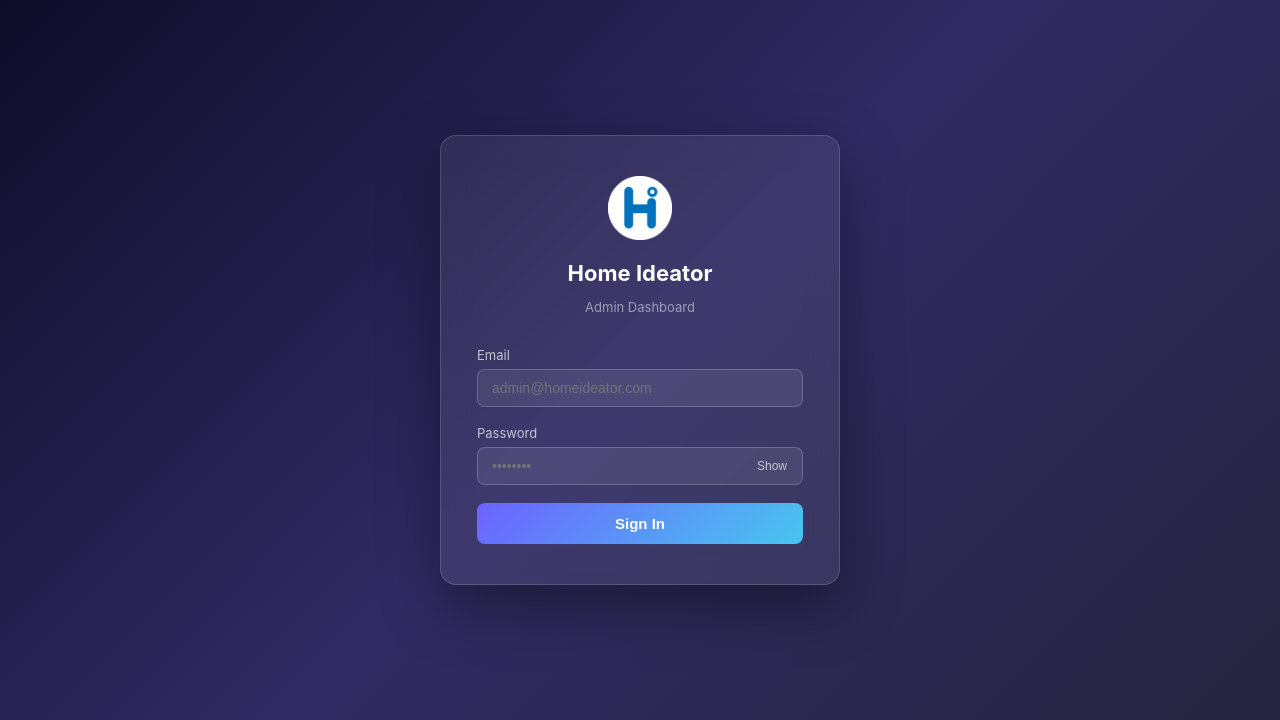
Login Flow › shows error toast on wrong credentials
Type "wrong@test.com" into the field with id "email" at x=640, y=388, box x1=477 y1=369 x2=803 y2=407
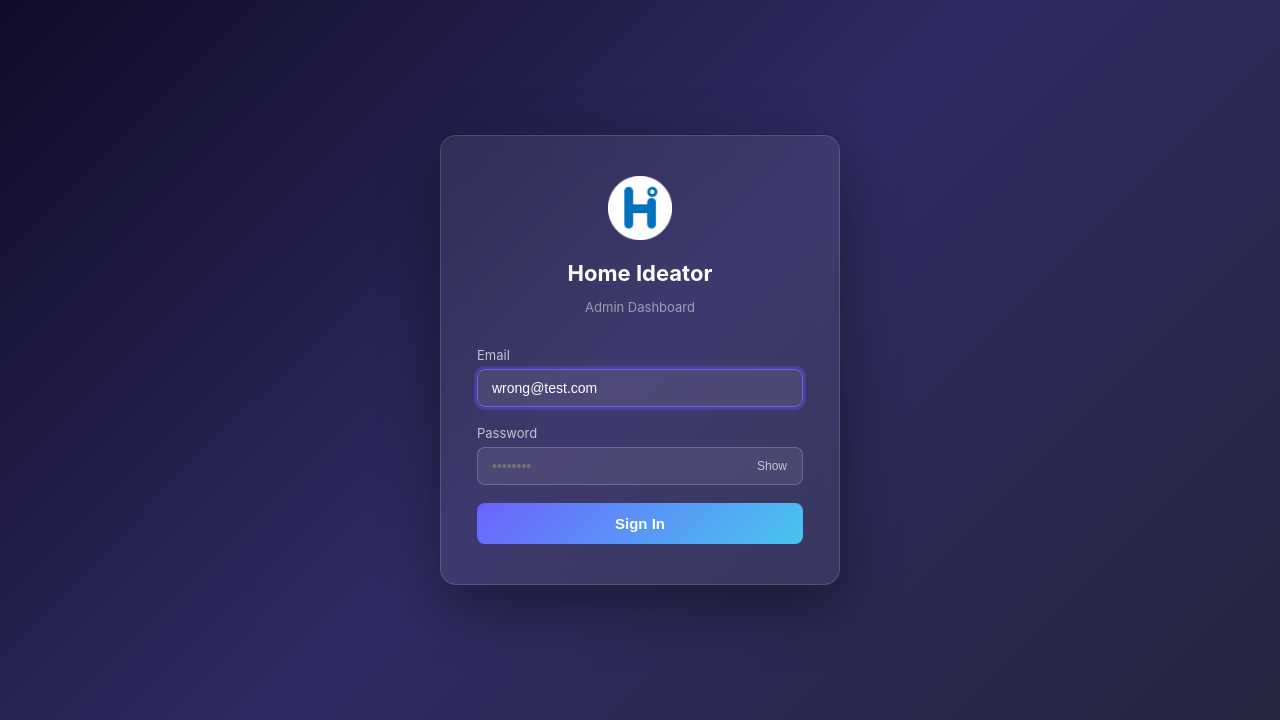
Type "wrongpass" into the password field labelled "Password" at x=640, y=466, box x1=477 y1=447 x2=803 y2=485
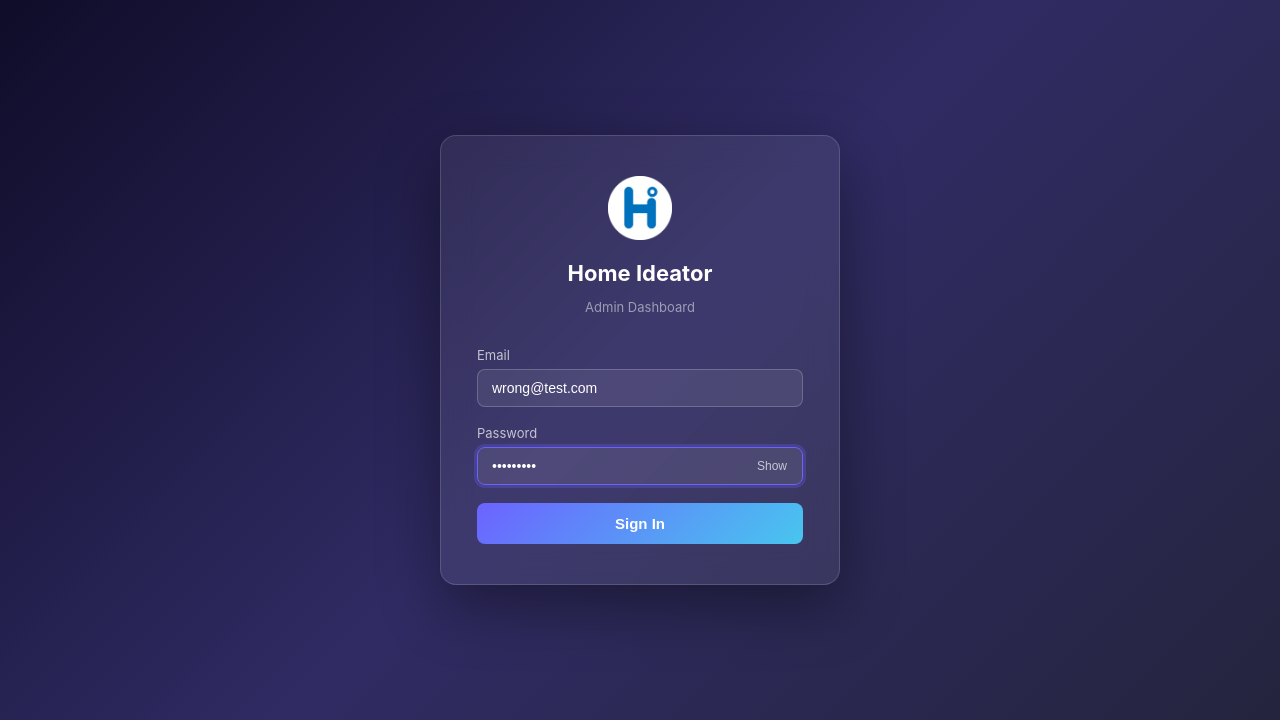
Click the button with id "loginSubmit" at x=640, y=524, box x1=477 y1=503 x2=803 y2=544
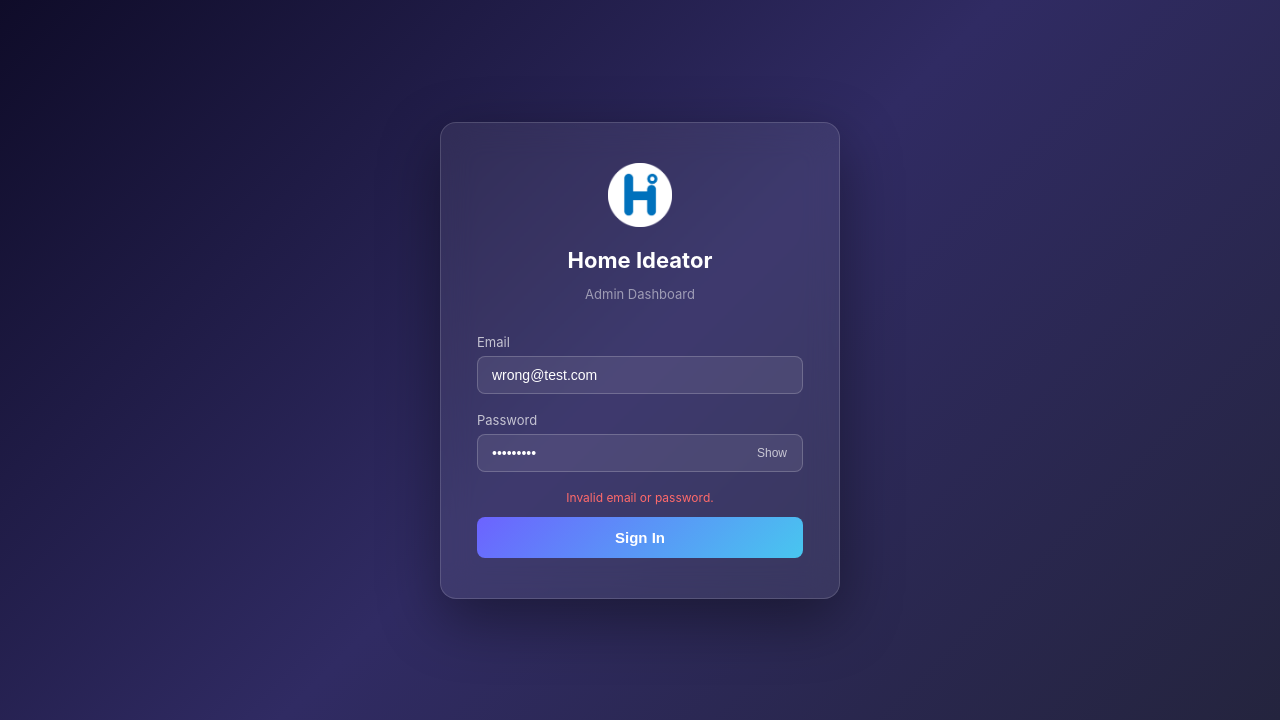
Now the text with class "global" shows "Invalid", box x1=566 y1=490 x2=713 y2=505
